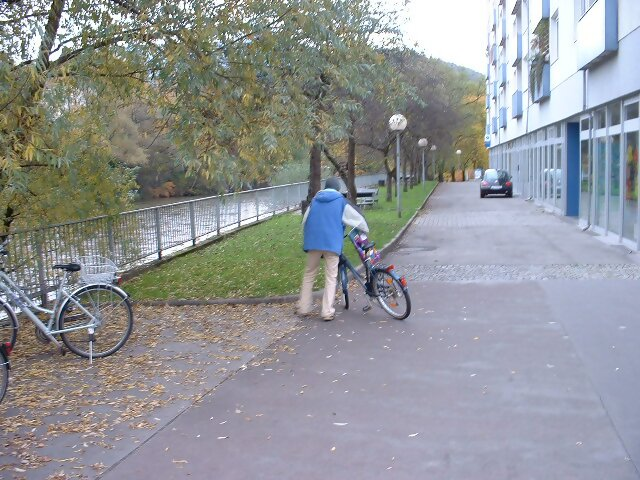person: (296, 167, 368, 328)
